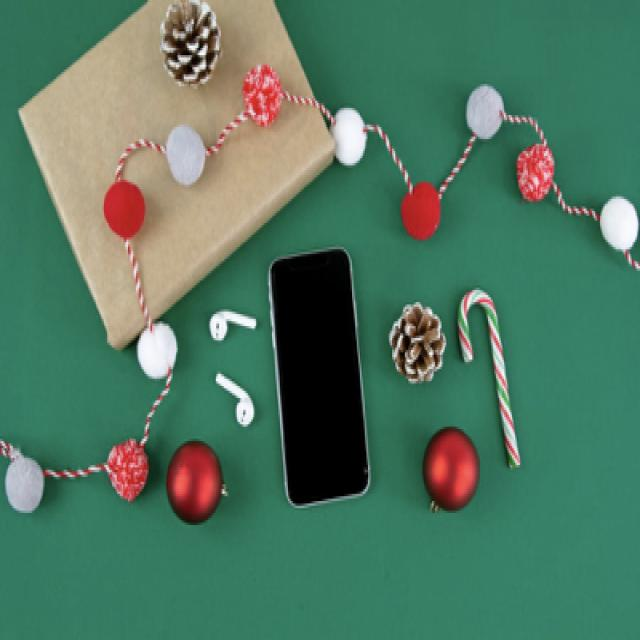cellphone: (266, 245, 370, 508)
